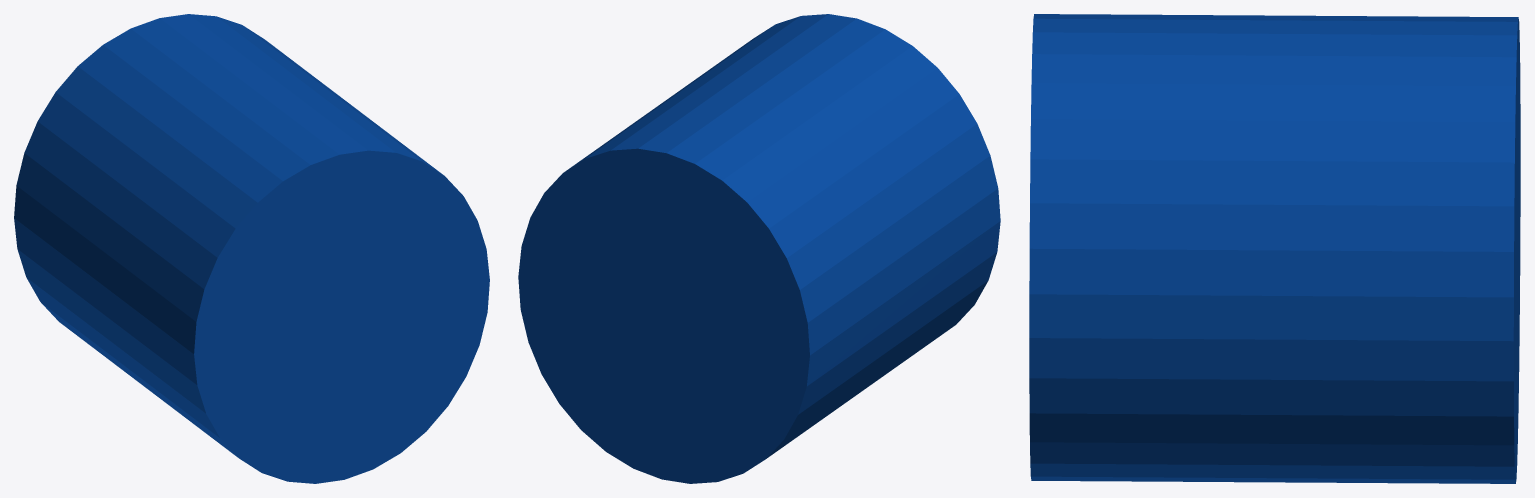
The picture shows the model from 3 angles, left to right: view 1: azimuth 30°, elevation 25°; view 2: azimuth 150°, elevation 25°; view 3: azimuth 270°, elevation 25°; orthographic projection. The views are drawn at different scales.
Visible parts, largest first — view 1: Cylinder; view 2: Cylinder; view 3: Cylinder.
Part boxes in pixels (<box>): Cylinder: <box>14,14,489,483</box>; Cylinder: <box>518,14,1000,483</box>; Cylinder: <box>1029,14,1520,483</box>.
Size of the model in its own units: 1.13 by 1.19 by 1.24.
